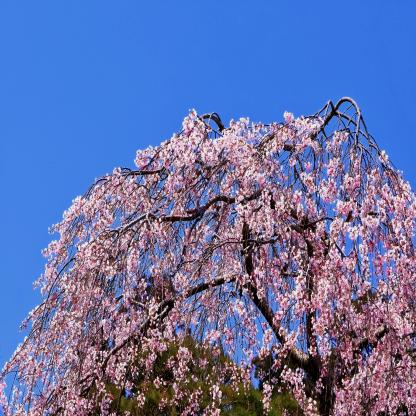ShidareZakura: (0, 96, 416, 416)
